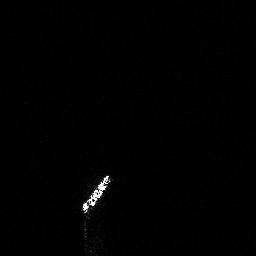ship: (77, 171, 113, 215)
